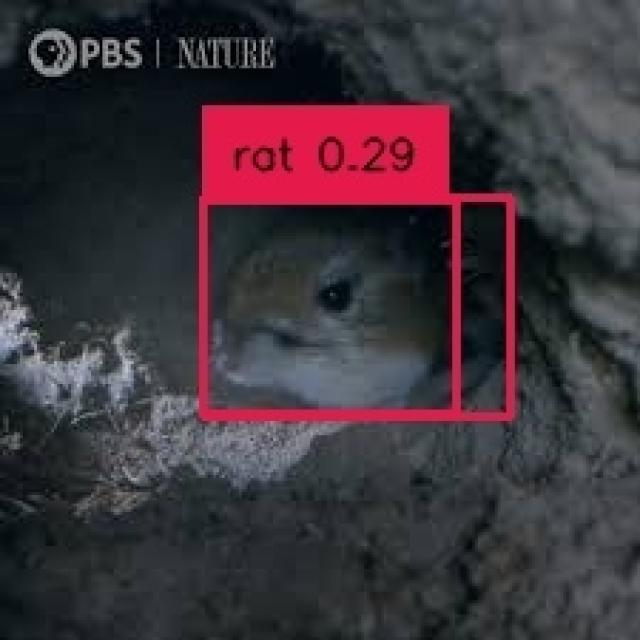rat: (199, 194, 506, 412), (199, 196, 452, 410)
